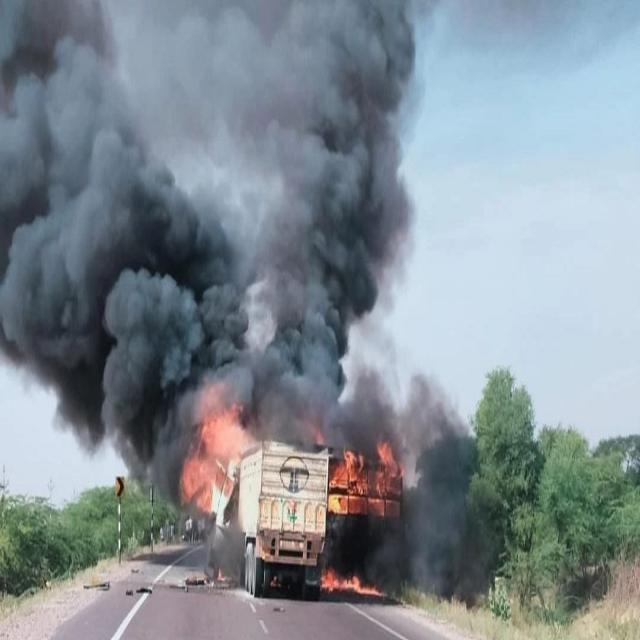accident: (208, 440, 330, 600)
